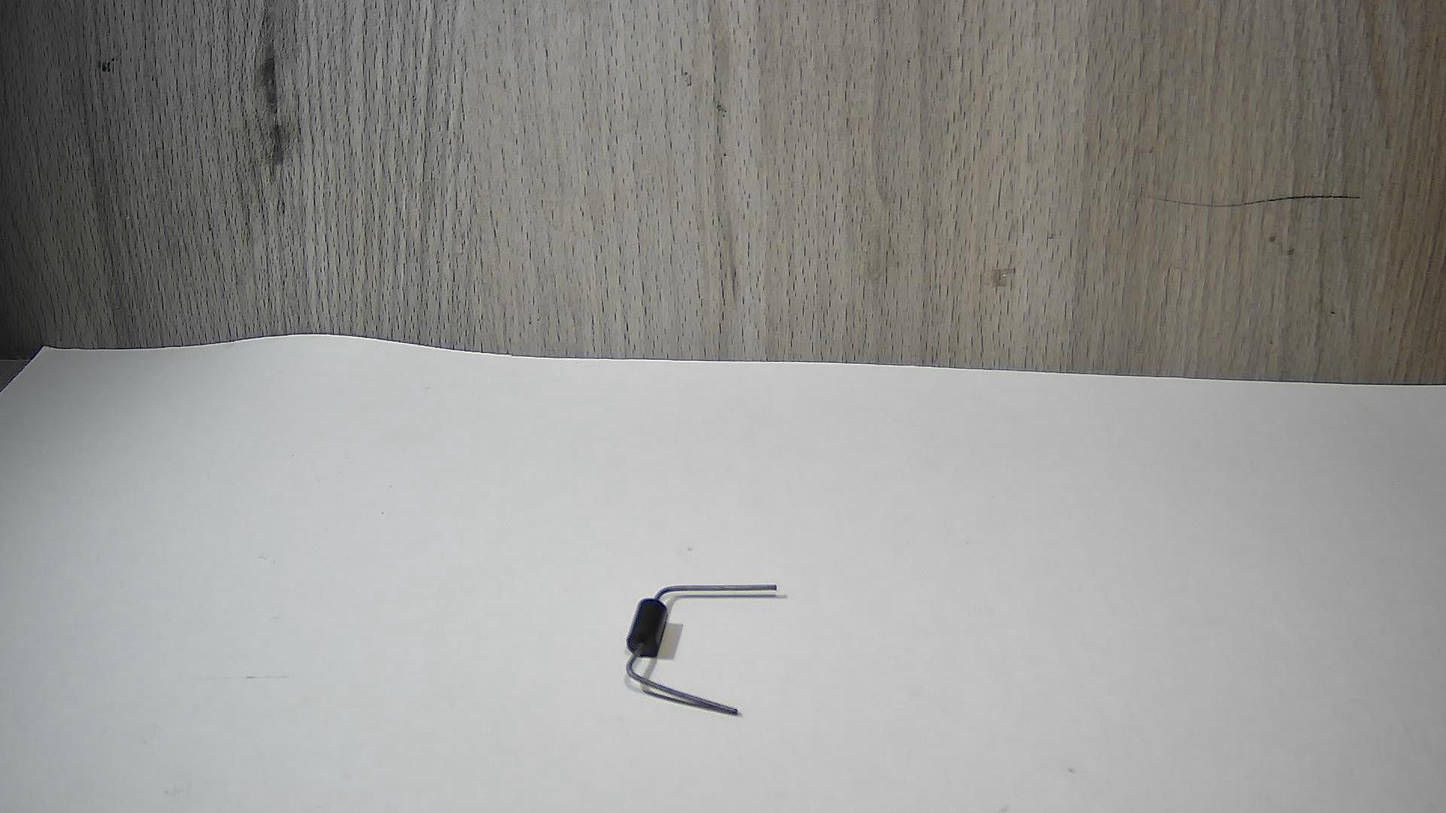Diodo: (600, 560, 826, 723)
